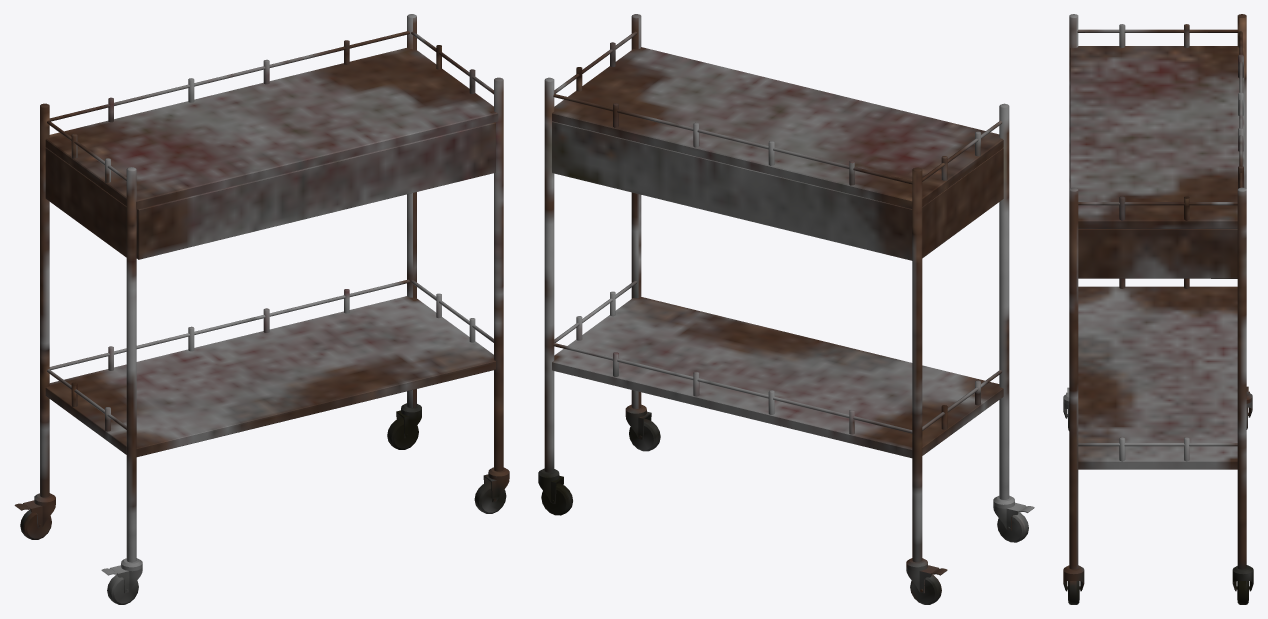
Rendered from cart.glb.
3 renders of one model, left to right at view 1: azimuth 30°, elevation 25°; view 2: azimuth 150°, elevation 25°; view 3: azimuth 270°, elevation 25°, orthographic. The views are drawn at different scales.
Parts seen in each view (by area): view 1: mc1_cart, mc1_drawer, mc1_wheel_1, mc1_wheel_2, mc1_wheel_4, mc1_wheel_3; view 2: mc1_cart, mc1_wheel_2, mc1_wheel_1, mc1_wheel_4, mc1_wheel_3; view 3: mc1_cart, mc1_wheel_4, mc1_wheel_3.
Part boxes in pixels (x1=…): mc1_cart: x1=40, y1=14, x2=503, y2=562; mc1_drawer: x1=136, y1=122, x2=495, y2=259; mc1_wheel_1: x1=101, y1=558, x2=142, y2=604; mc1_wheel_2: x1=14, y1=493, x2=55, y2=539; mc1_wheel_4: x1=474, y1=467, x2=509, y2=513; mc1_wheel_3: x1=387, y1=403, x2=421, y2=449; mc1_cart: x1=544, y1=14, x2=1009, y2=562; mc1_wheel_2: x1=906, y1=558, x2=947, y2=604; mc1_wheel_1: x1=993, y1=495, x2=1034, y2=542; mc1_wheel_4: x1=625, y1=404, x2=660, y2=451; mc1_wheel_3: x1=538, y1=468, x2=572, y2=515; mc1_cart: x1=1069, y1=14, x2=1246, y2=569; mc1_wheel_4: x1=1063, y1=565, x2=1084, y2=604; mc1_wheel_3: x1=1232, y1=565, x2=1253, y2=604.
Size of the model in its own units: 41.81 by 42.88 by 17.65.
1 material, 1 textured.
